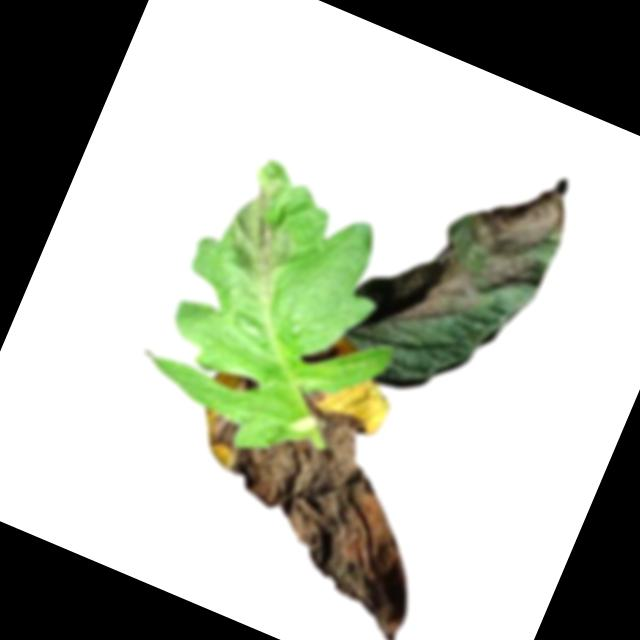Late_blight: (162, 360, 474, 640), (454, 148, 584, 299), (207, 165, 314, 298), (400, 246, 489, 348)
